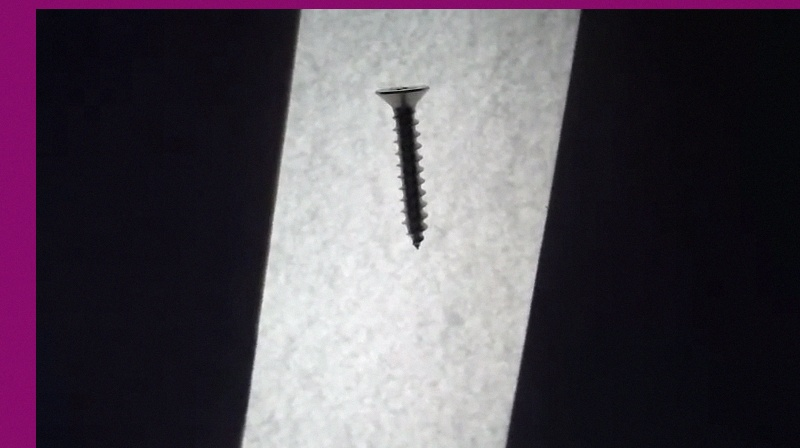S001: (369, 76, 437, 254)
